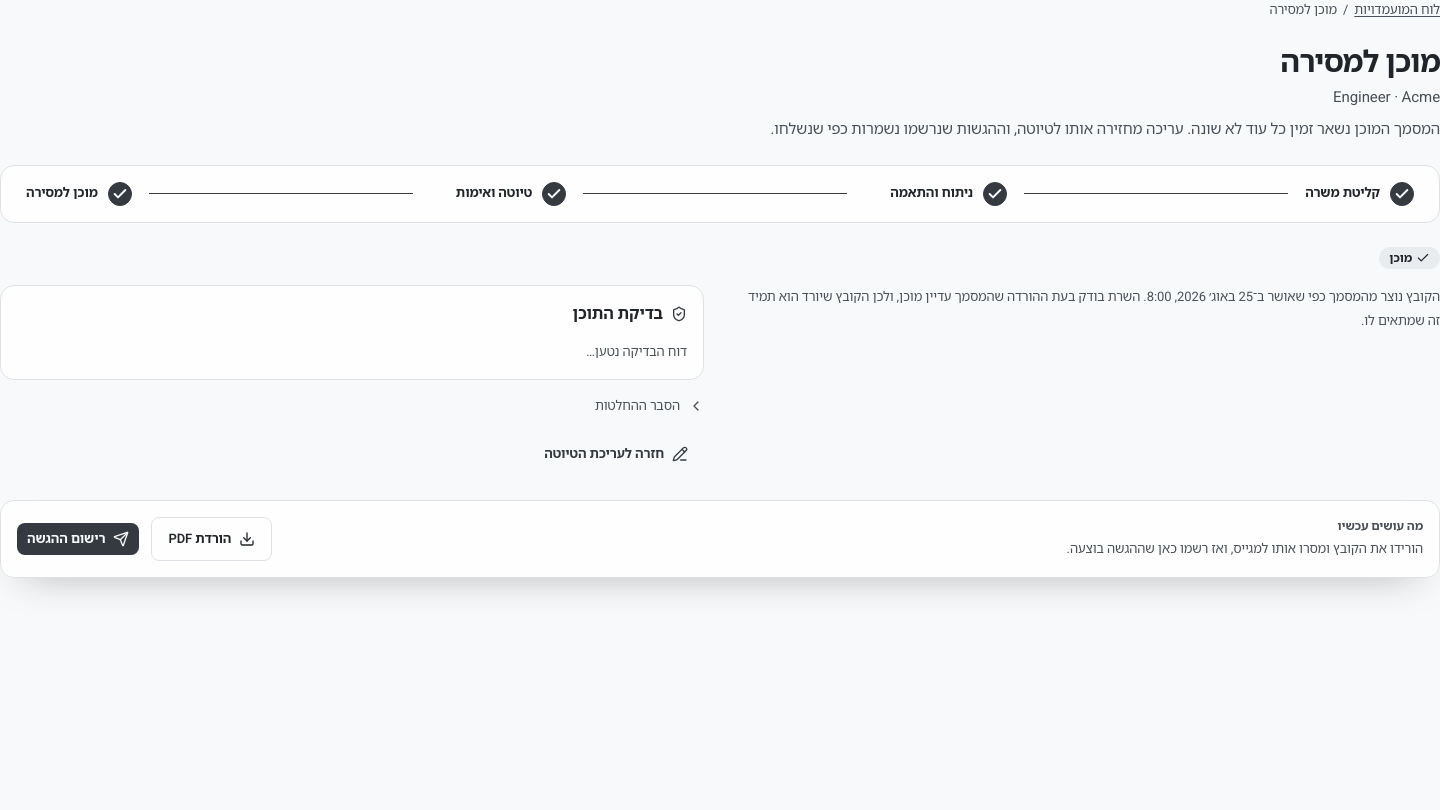
Test: ReadyPage › records a submission against the exact Ready document hash
The width and height of the screenshot is (1440, 810).
Click the button "רישום ההגשה" at (78, 539), box [17,523,139,555]
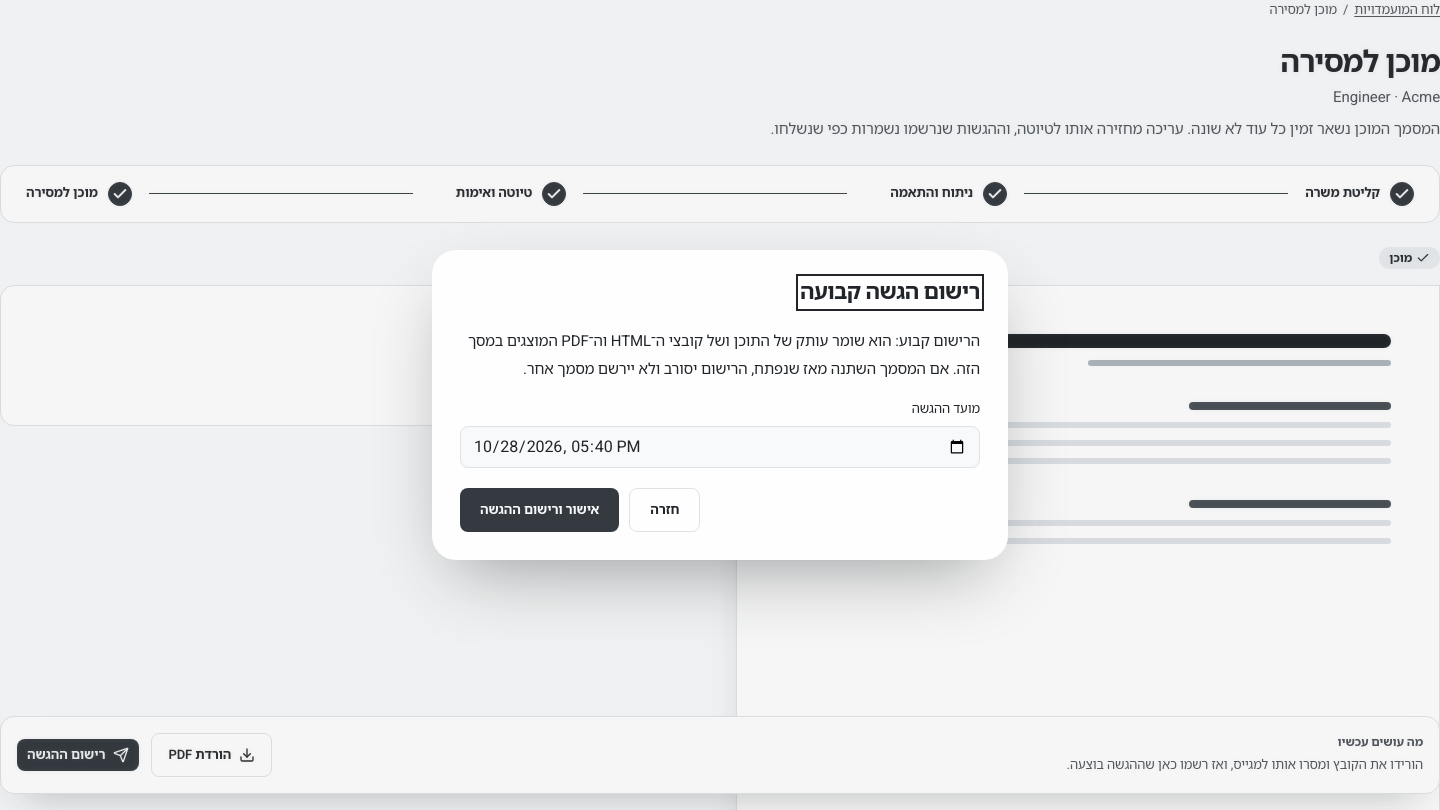
Click the button "אישור ורישום ההגשה" at (540, 510), box [460,488,619,532]
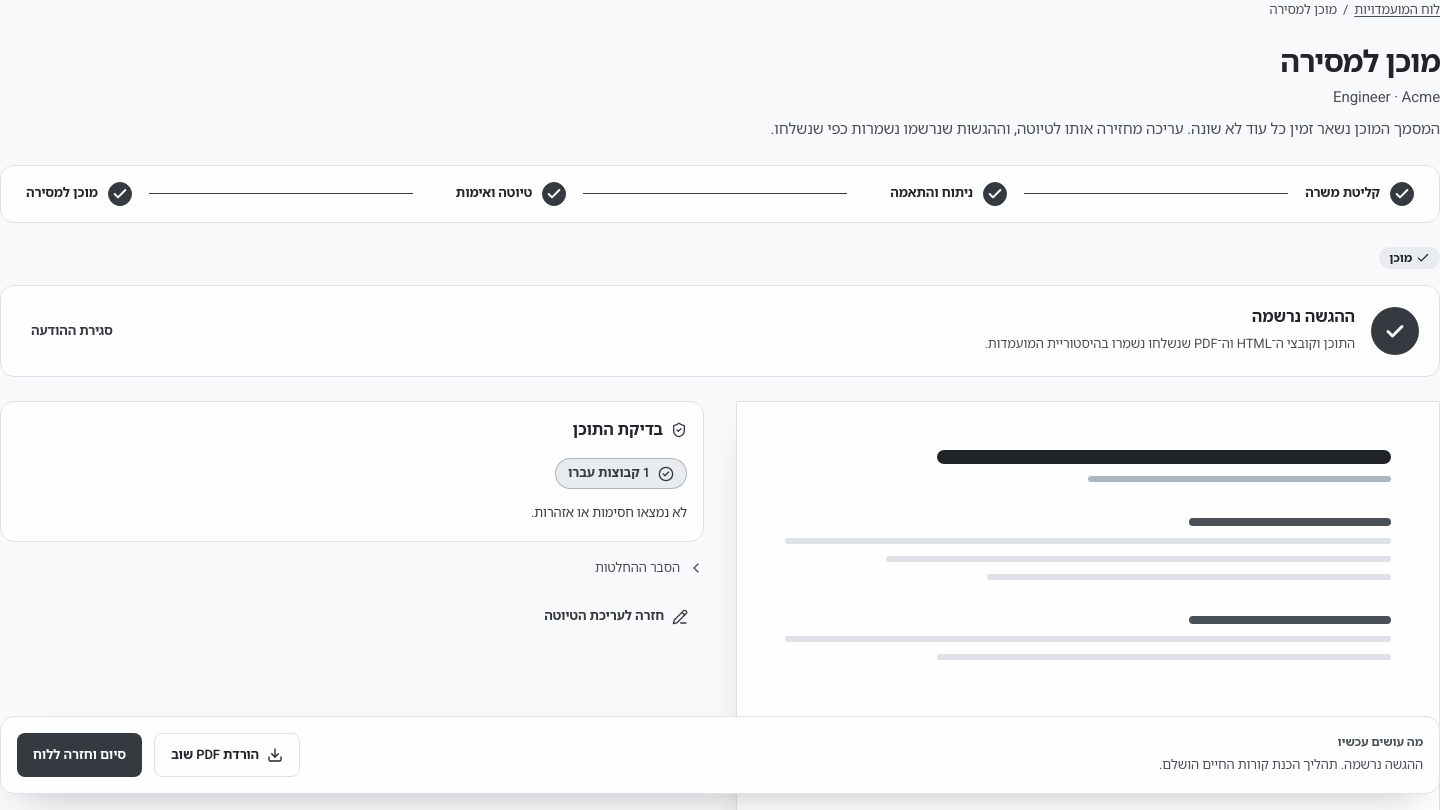
Result: the text "ההגשה נרשמה" is shown at [1252,305,1355,329]
